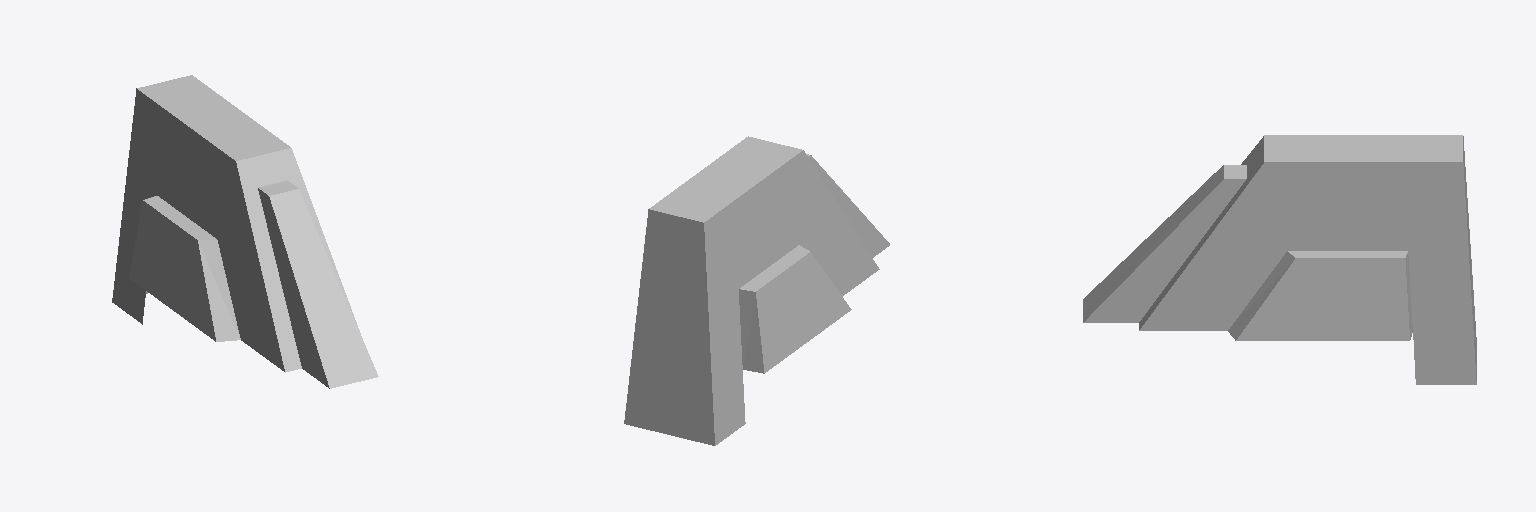
File: Regroup027.obj
3 views of the same model, side by side, from view 1: azimuth 30°, elevation 25°; view 2: azimuth 150°, elevation 25°; view 3: azimuth 270°, elevation 25° (orthographic).
Visible parts, largest first — view 1: Regroup027; view 2: Regroup027; view 3: Regroup027.
Boxes of the visible parts, x1=… form: Regroup027: x1=112, y1=75, x2=378, y2=388; Regroup027: x1=624, y1=136, x2=889, y2=445; Regroup027: x1=1083, y1=135, x2=1476, y2=384.
Size of the model in its own units: 2.75 by 4.56 by 7.59.